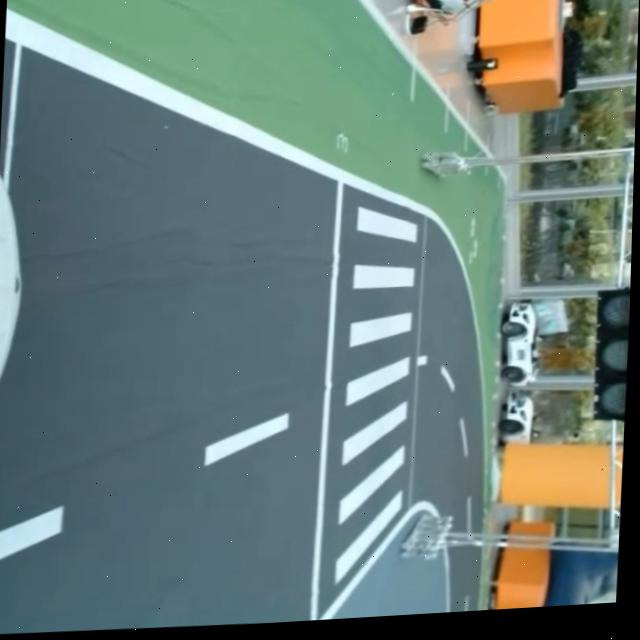traffic-light: (586, 283, 631, 424)
